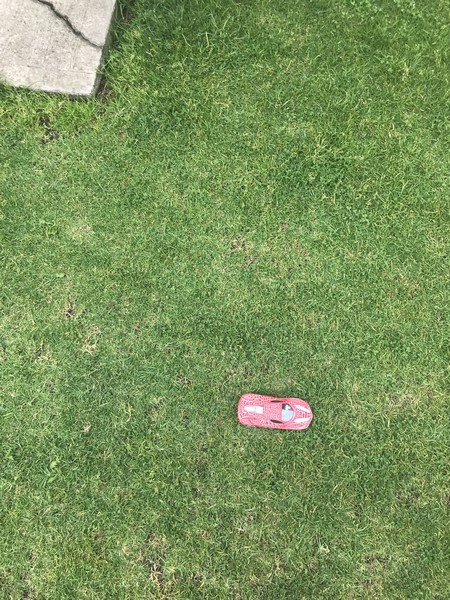RC: (235, 391, 314, 433)
